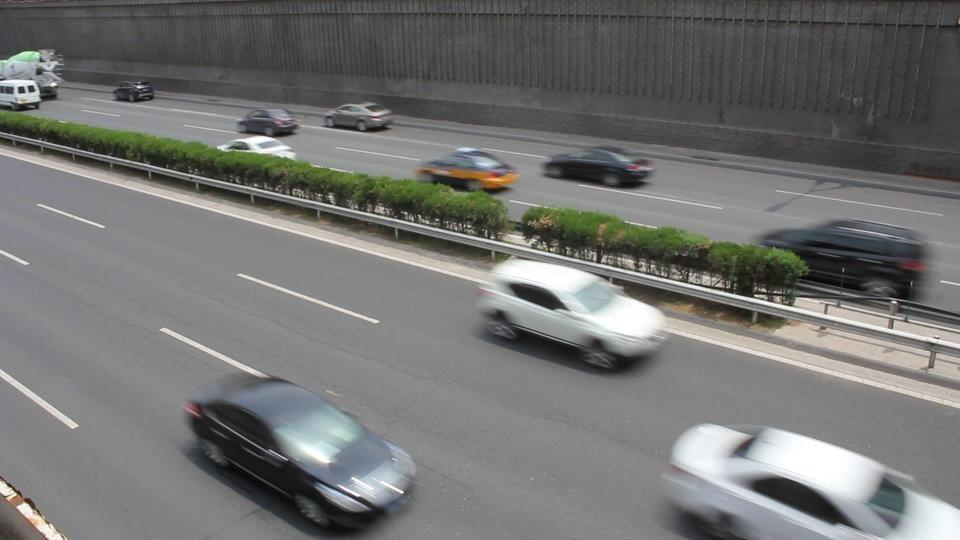car: (181, 373, 419, 532), (658, 422, 958, 539), (473, 256, 670, 373), (759, 219, 933, 301), (540, 146, 660, 189), (414, 146, 521, 194), (321, 102, 395, 132), (237, 108, 300, 137), (0, 79, 41, 112), (112, 79, 155, 102), (28, 72, 62, 100)
